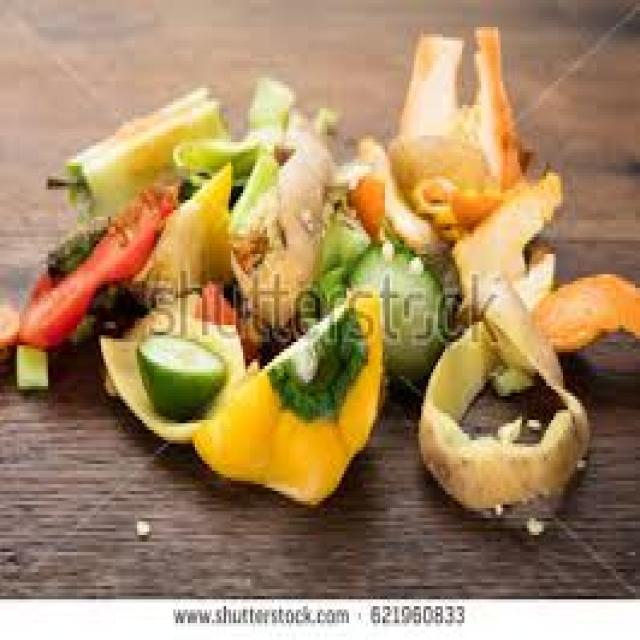Organik: (19, 24, 625, 513)
